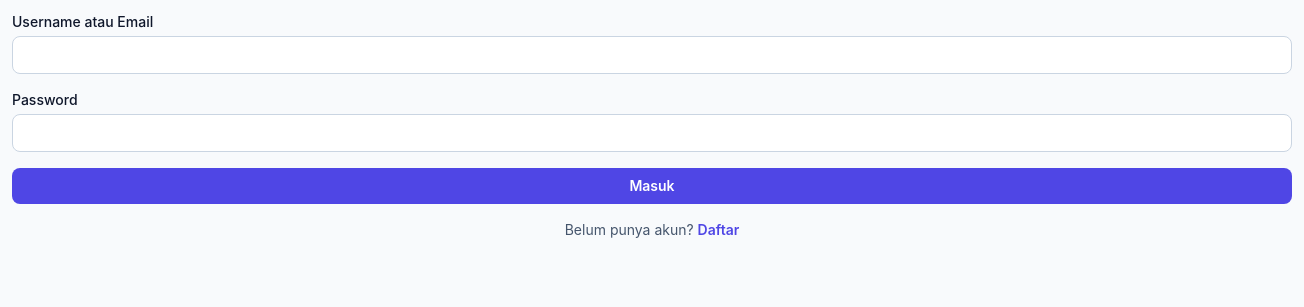
AuthForm › login gagal menampilkan pesan galat lalu hilang saat submit ulang berhasil
Type "budi" into the field with id "login-username" at {"x": 652, "y": 55}, box [12,36,1292,74]
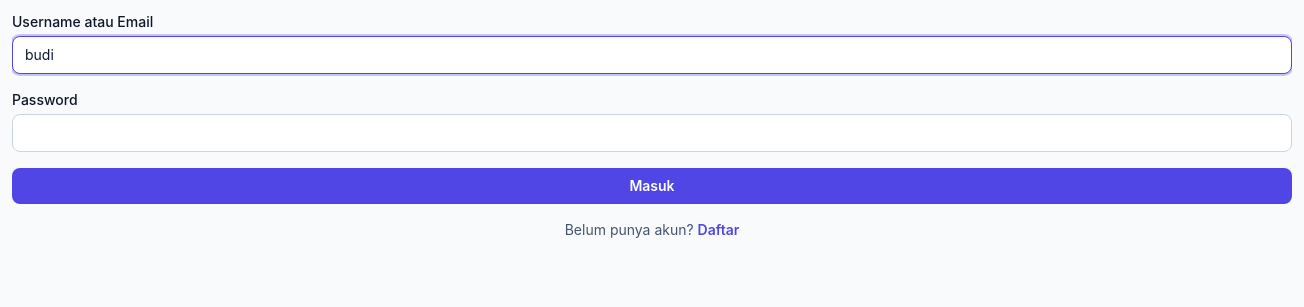
Type "salah" into the password field with id "login-password" at {"x": 652, "y": 133}, box [12,114,1292,152]
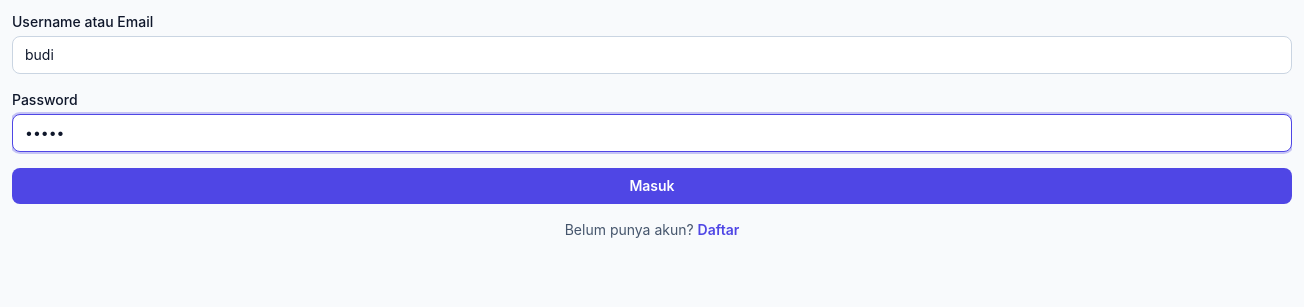
Click the button with id "login-submit" at {"x": 652, "y": 186}, box [12,168,1292,204]
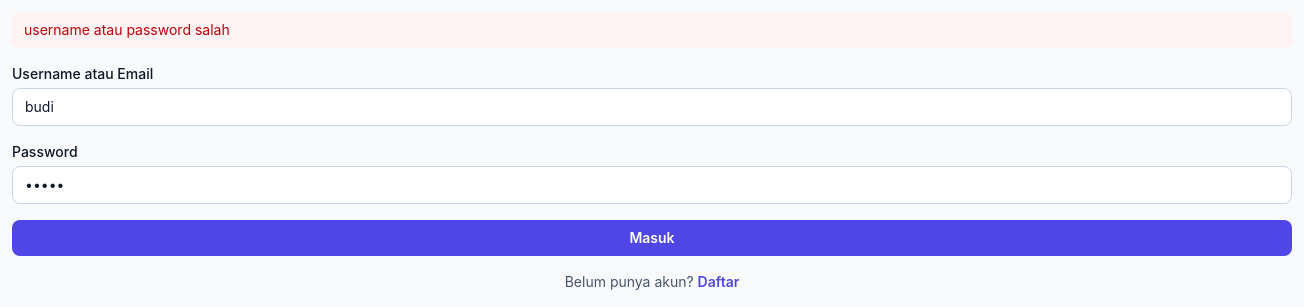
Expected: the message reads "username atau password salah", [24,21,230,38]
Click the button with id "login-submit" at {"x": 652, "y": 238}, box [12,220,1292,256]
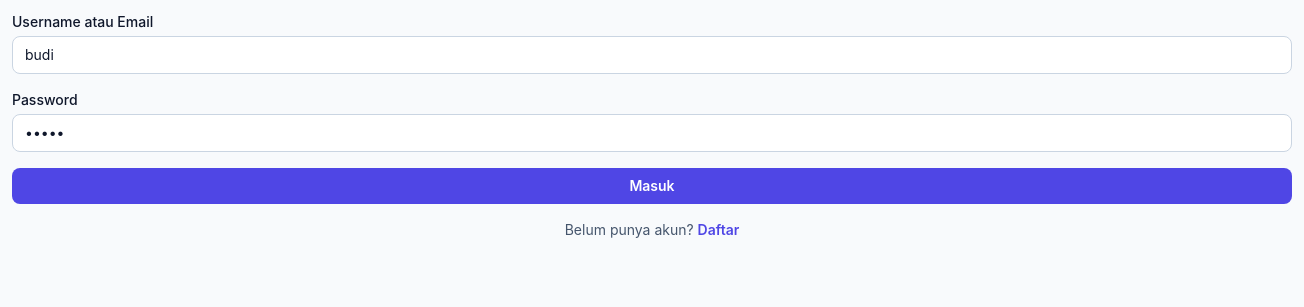
Expected: the message "username atau password salah" is gone
